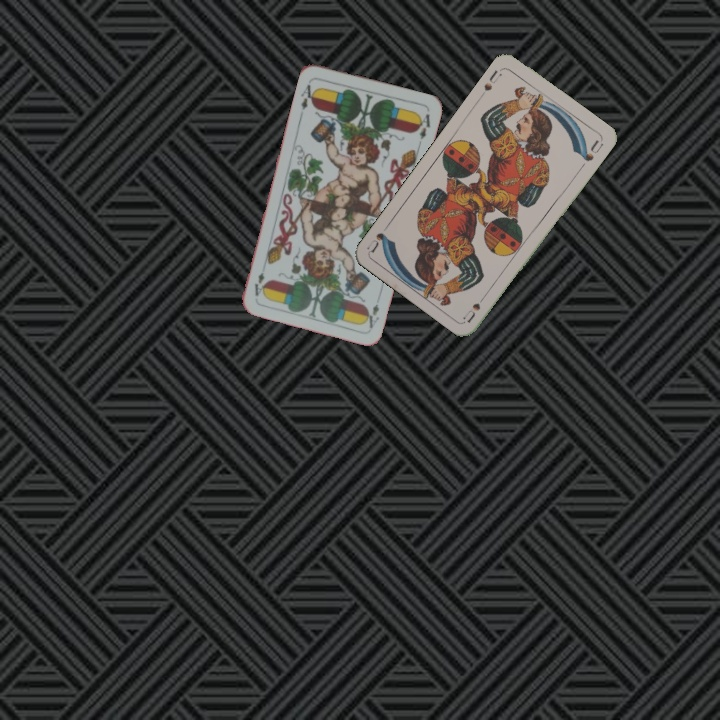EA: (297, 80, 319, 113), (360, 300, 382, 331)
SU: (459, 288, 490, 325), (477, 65, 504, 100)
